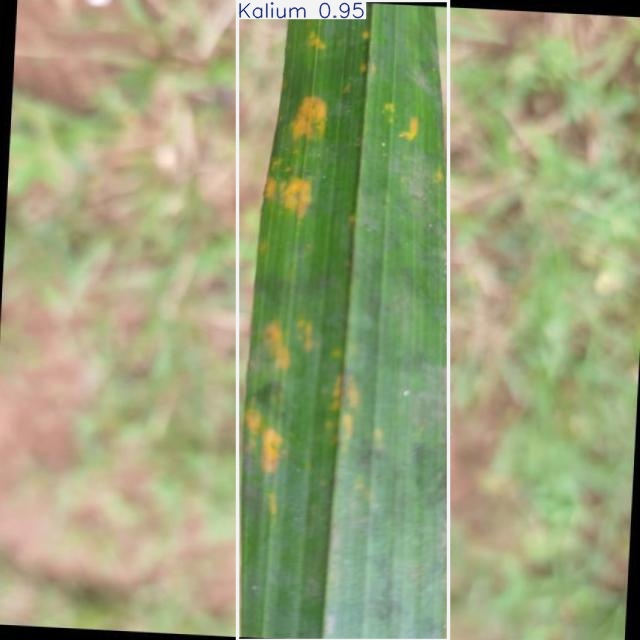Kalium: (238, 0, 449, 640)
